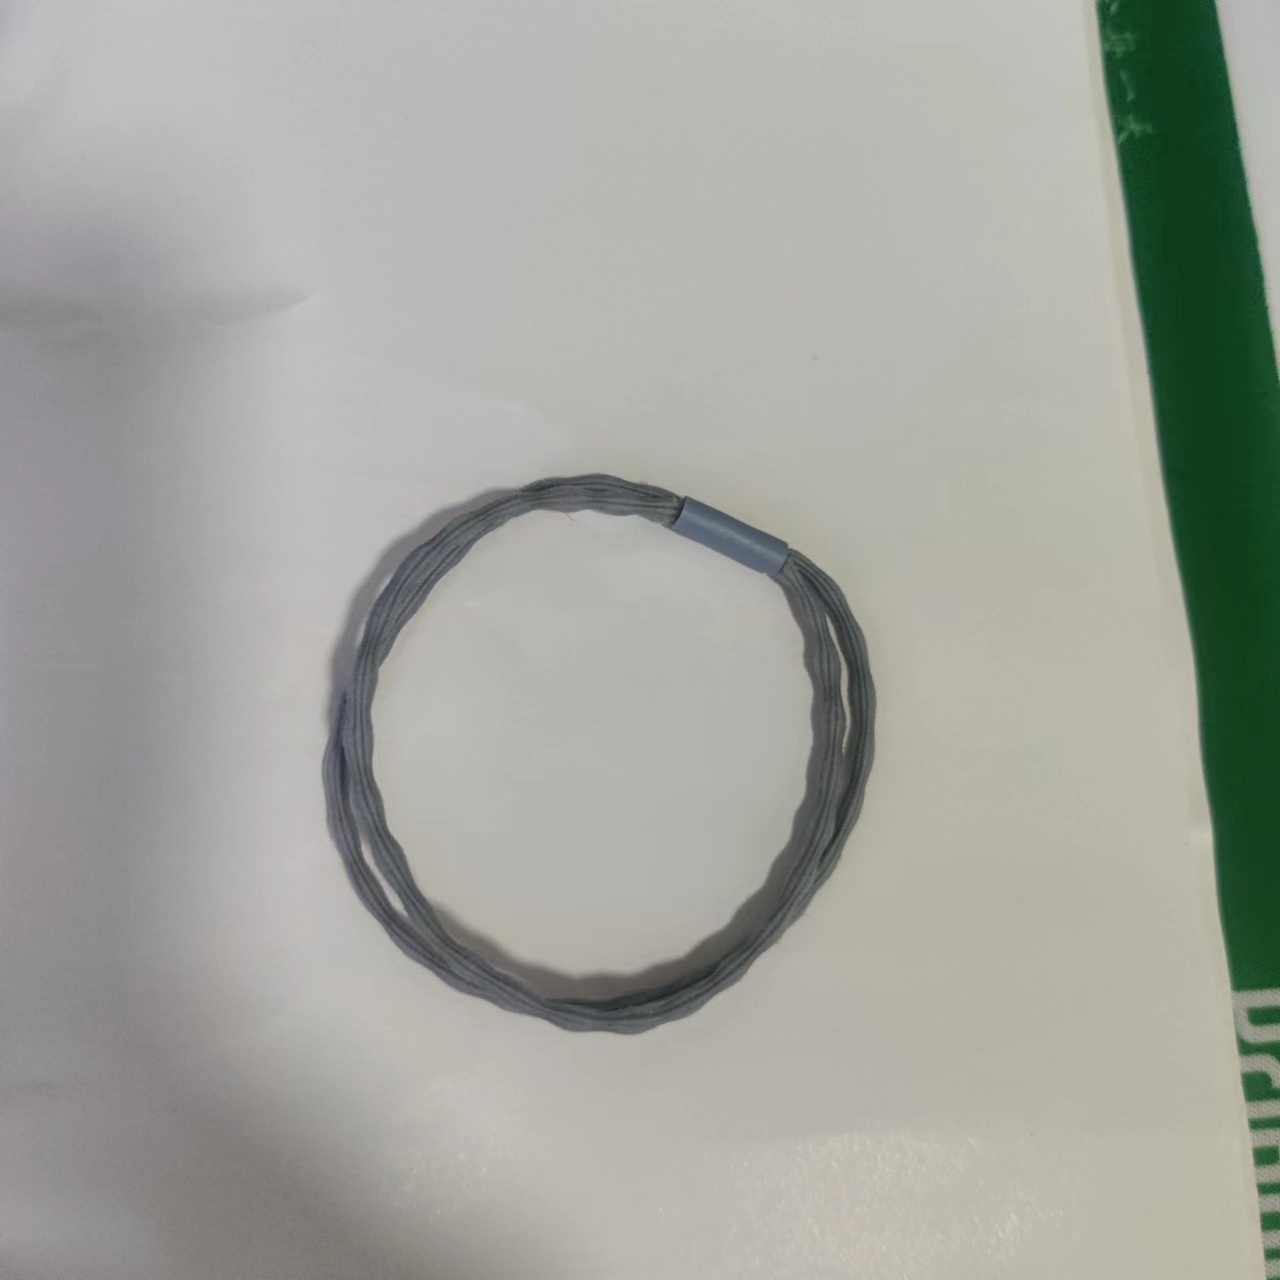9/可回收垃圾/绳子: (320, 472, 879, 1036)
